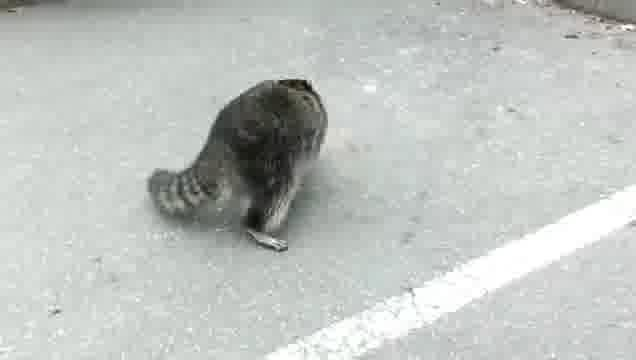raccoon: (148, 79, 331, 253)
